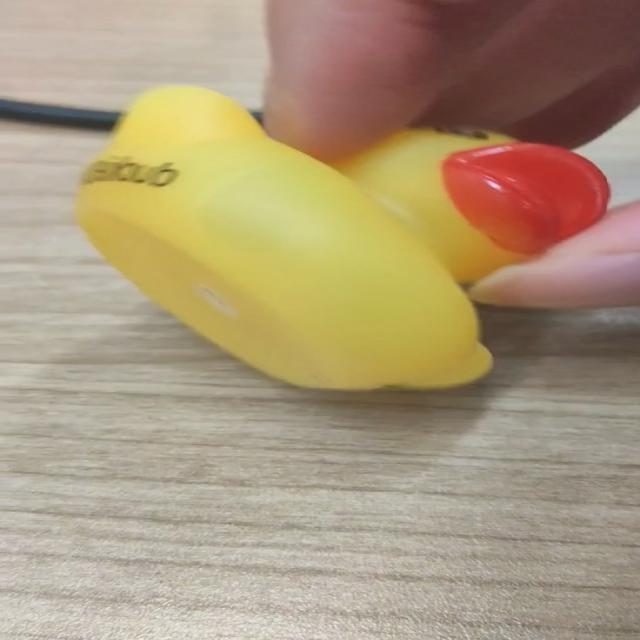rubber-duck: (75, 85, 490, 387)
